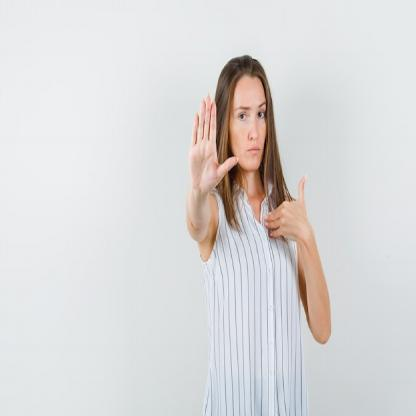stop: (188, 90, 240, 200)
